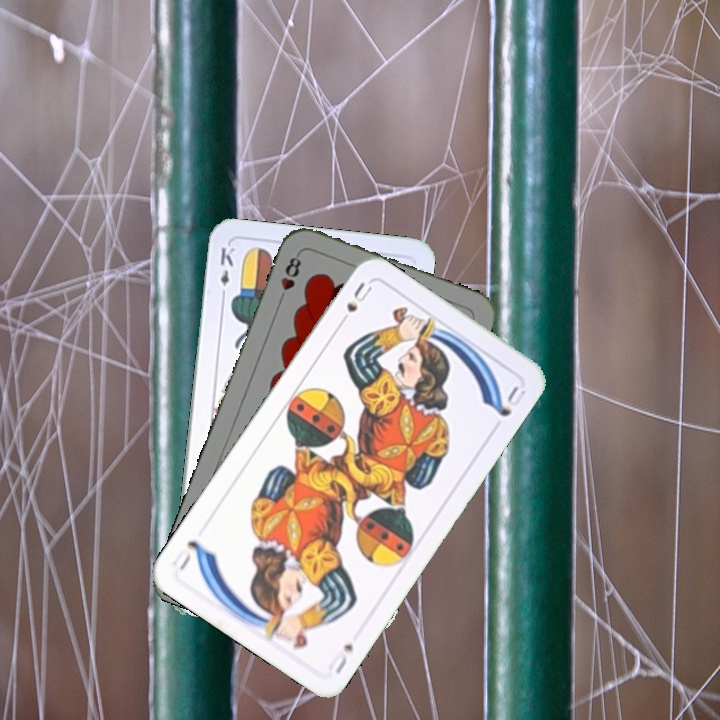EK: (216, 243, 237, 302)
H8: (274, 249, 304, 306)
SU: (334, 278, 375, 330), (323, 639, 356, 677)
